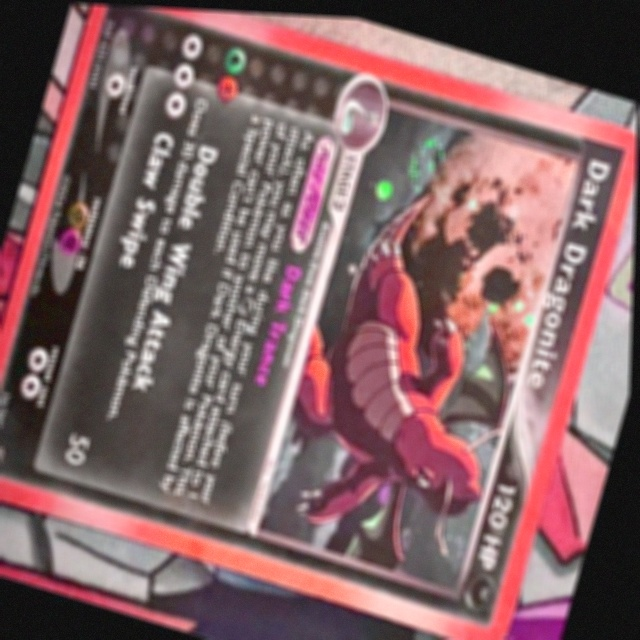card: (0, 4, 638, 640)
